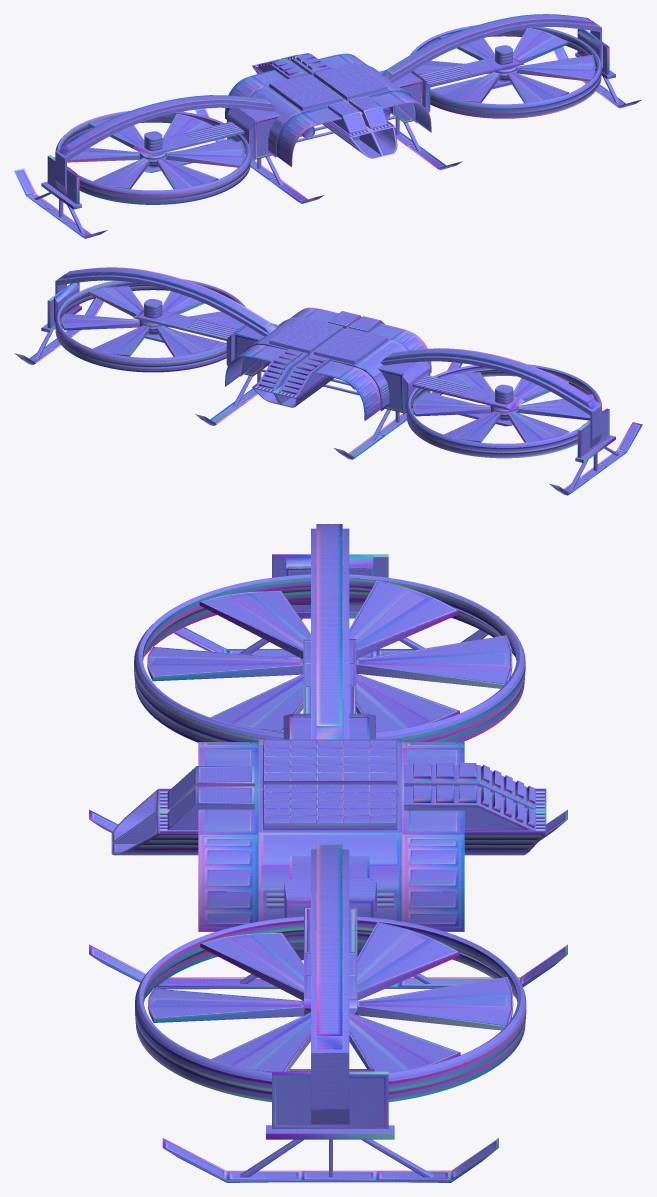
File: Drone_obj.obj
3 views of the same model, one above another, from view 1: azimuth 30°, elevation 25°; view 2: azimuth 150°, elevation 25°; view 3: azimuth 270°, elevation 25° (orthographic). The views are drawn at different scales.
Parts seen in each view (by area): view 1: helicopter_Cube.011, Rotor_R_2_Cube.013, Rotor_L_2_Cube.000, Rotor_L_Cube.007, Rotor_R_Cube.012; view 2: helicopter_Cube.011, Rotor_R_2_Cube.013, Rotor_L_2_Cube.000, Rotor_R_Cube.012, Rotor_L_Cube.007; view 3: helicopter_Cube.011, Rotor_L_Cube.007, Rotor_R_Cube.012, Rotor_L_2_Cube.000, Rotor_R_2_Cube.013.
Boxes of the visible parts, x1=… form: helicopter_Cube.011: x1=14, y1=14, x2=641, y2=238; Rotor_R_2_Cube.013: x1=54, y1=108, x2=254, y2=204; Rotor_L_2_Cube.000: x1=410, y1=25, x2=602, y2=118; Rotor_L_Cube.007: x1=413, y1=28, x2=595, y2=103; Rotor_R_Cube.012: x1=67, y1=113, x2=244, y2=189; helicopter_Cube.011: x1=14, y1=267, x2=642, y2=495; Rotor_R_2_Cube.013: x1=403, y1=361, x2=603, y2=458; Rotor_L_2_Cube.000: x1=54, y1=279, x2=245, y2=372; Rotor_R_Cube.012: x1=413, y1=371, x2=594, y2=442; Rotor_L_Cube.007: x1=61, y1=286, x2=244, y2=356; helicopter_Cube.011: x1=89, y1=524, x2=567, y2=1182; Rotor_L_Cube.007: x1=148, y1=922, x2=513, y2=1073; Rotor_R_Cube.012: x1=147, y1=580, x2=512, y2=732; Rotor_L_2_Cube.000: x1=135, y1=877, x2=526, y2=1102; Rotor_R_2_Cube.013: x1=134, y1=555, x2=525, y2=742.
Bounding box in the file's own units: 0.772 × 0.1219 × 0.2938.
Materials: 1 (1 with a texture image).
